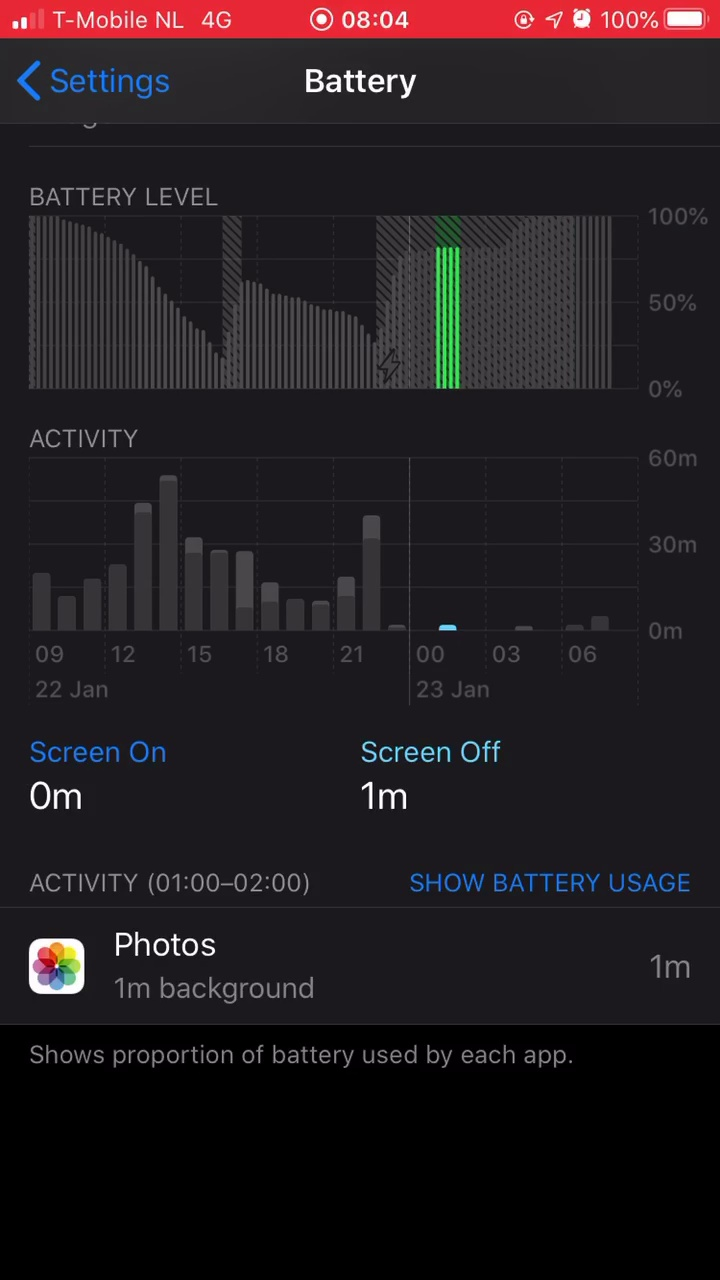activity: (20, 852, 342, 916)
app: (14, 922, 698, 1016)
